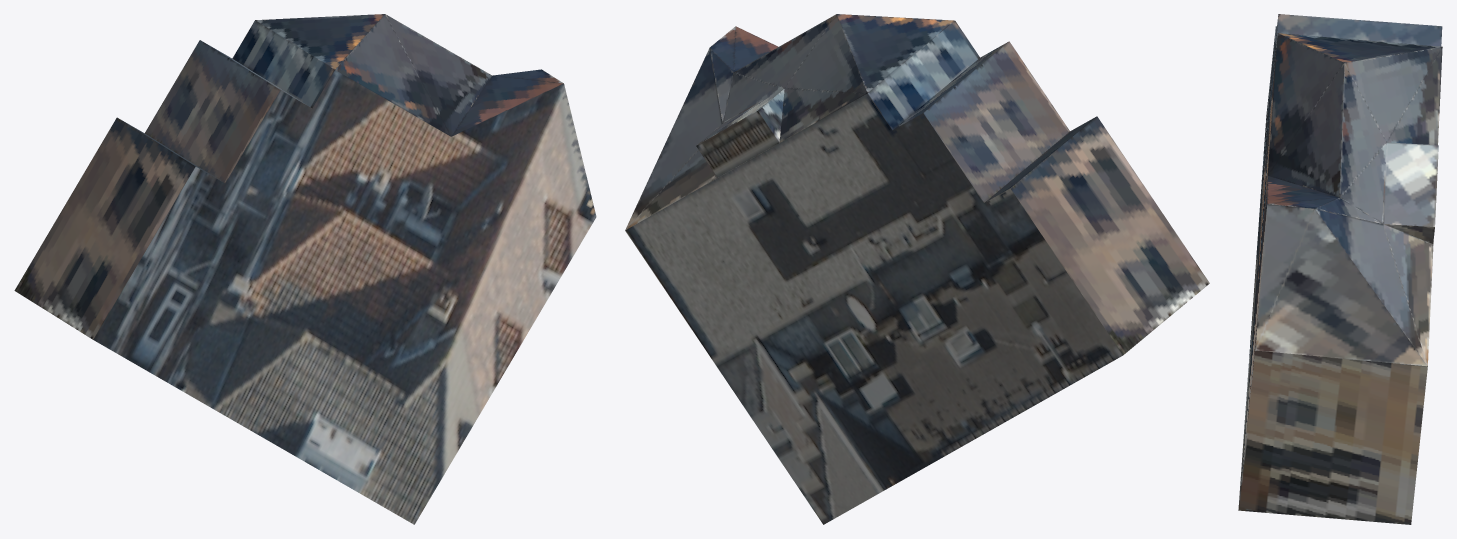
3 renders of one model, left to right at view 1: azimuth 30°, elevation 25°; view 2: azimuth 150°, elevation 25°; view 3: azimuth 270°, elevation 25°, orthographic.
Visible parts, largest first — view 1: BAG_0599100000760368 (×4); view 2: BAG_0599100000760368 (×5); view 3: BAG_0599100000760368 (×6).
Boxes of the visible parts, bbox=[...] form: BAG_0599100000760368 (×4): bbox=[14, 14, 596, 524]; BAG_0599100000760368 (×5): bbox=[625, 14, 1209, 524]; BAG_0599100000760368 (×6): bbox=[1238, 14, 1442, 524].
Size of the model in its own units: 18.79 by 17.18 by 6.74.
7 materials, 7 textured.
